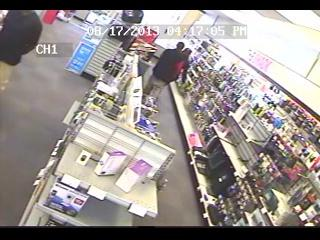Normal: (142, 44, 192, 108), (0, 10, 44, 70)
